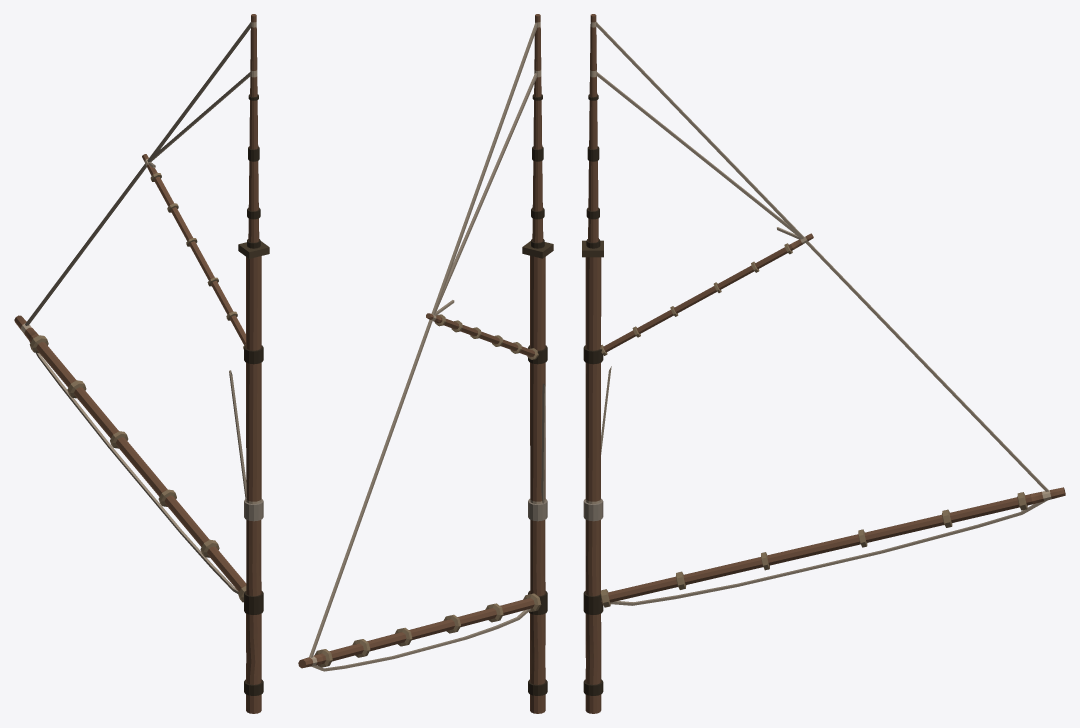
Rendered from SM_Veh_Boat_Large_Mast_01.glb.
The picture shows the model from 3 angles, left to right: view 1: azimuth 30°, elevation 25°; view 2: azimuth 150°, elevation 25°; view 3: azimuth 270°, elevation 25°; orthographic projection.
Visible parts, largest first — view 1: SM_Veh_Boat_Large_Mast_01; view 2: SM_Veh_Boat_Large_Mast_01; view 3: SM_Veh_Boat_Large_Mast_01.
Boxes of the visible parts, x1,y1,x2,y2 form: SM_Veh_Boat_Large_Mast_01: [14, 14, 269, 713]; SM_Veh_Boat_Large_Mast_01: [298, 14, 553, 713]; SM_Veh_Boat_Large_Mast_01: [582, 14, 1065, 713].
Bounding box in the file's own units: 0.00904 × 0.23 × 0.145.
Materials: 1 (1 with a texture image).
